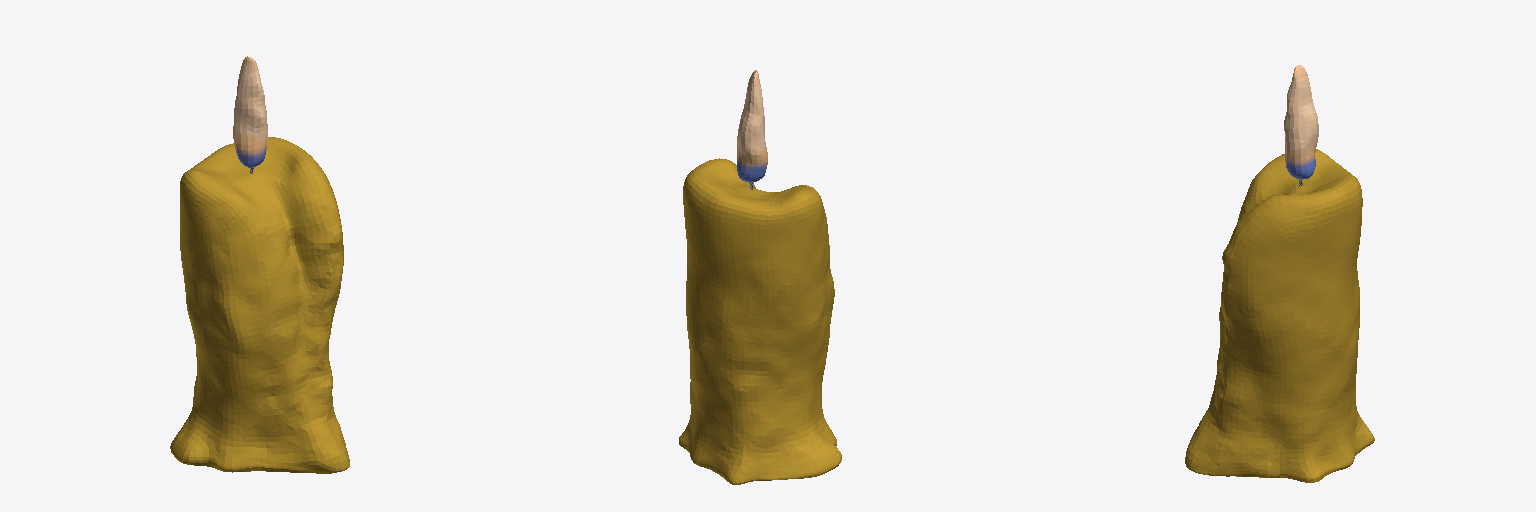
3 views of the same model, side by side, from view 1: azimuth 30°, elevation 25°; view 2: azimuth 150°, elevation 25°; view 3: azimuth 270°, elevation 25° (orthographic).
Parts seen in each view (by area): view 1: Candle_02, Flame_02; view 2: Candle_02, Flame_02; view 3: Candle_02, Flame_02.
Part boxes in pixels (left/top/right/bottom): Candle_02: left=170, top=137, right=349, bottom=473; Flame_02: left=233, top=56, right=267, bottom=167; Candle_02: left=679, top=158, right=841, bottom=484; Flame_02: left=737, top=70, right=767, bottom=182; Candle_02: left=1185, top=149, right=1374, bottom=482; Flame_02: left=1284, top=65, right=1318, bottom=179.
Bounding box in the file's own units: 3.4 × 8.41 × 3.77.
3 materials, 1 textured.